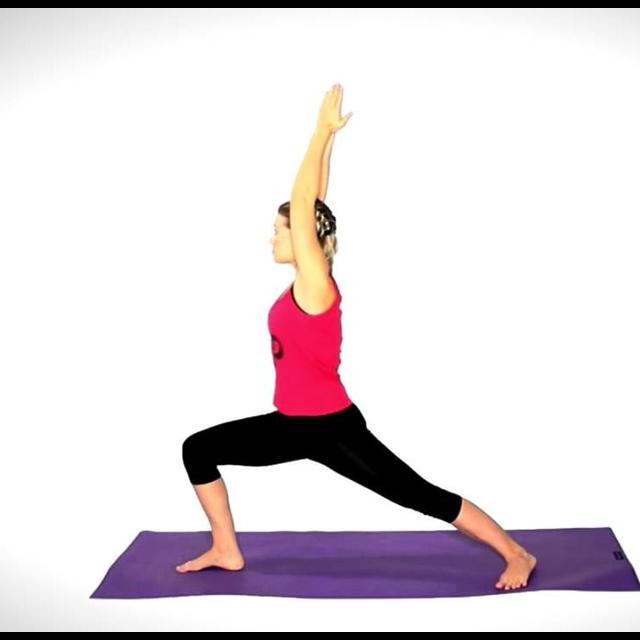Warrior_I: (156, 70, 551, 598)
